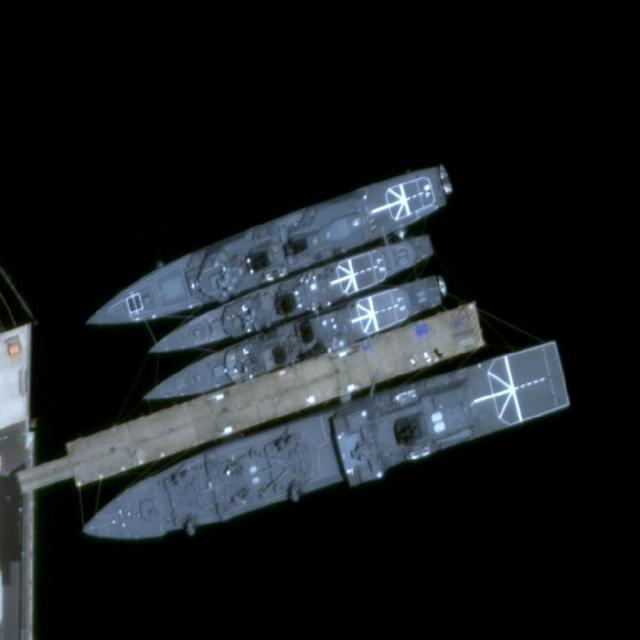Auxiliary Ships: (71, 341, 576, 559)
Destroyer: (76, 161, 454, 347), (136, 268, 453, 414), (142, 231, 438, 365)
Dock: (68, 310, 485, 482)
